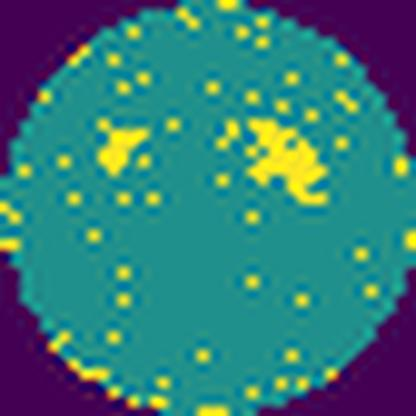Loc: (243, 113, 335, 211), (92, 115, 149, 179)
